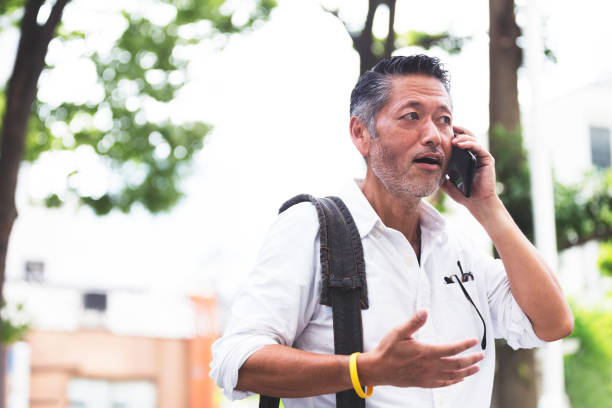phone: (440, 132, 484, 203)
talk: (389, 101, 501, 218)
